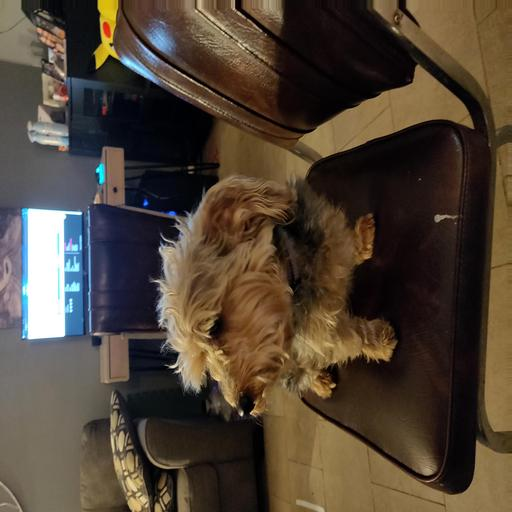dog: (149, 174, 395, 420)
